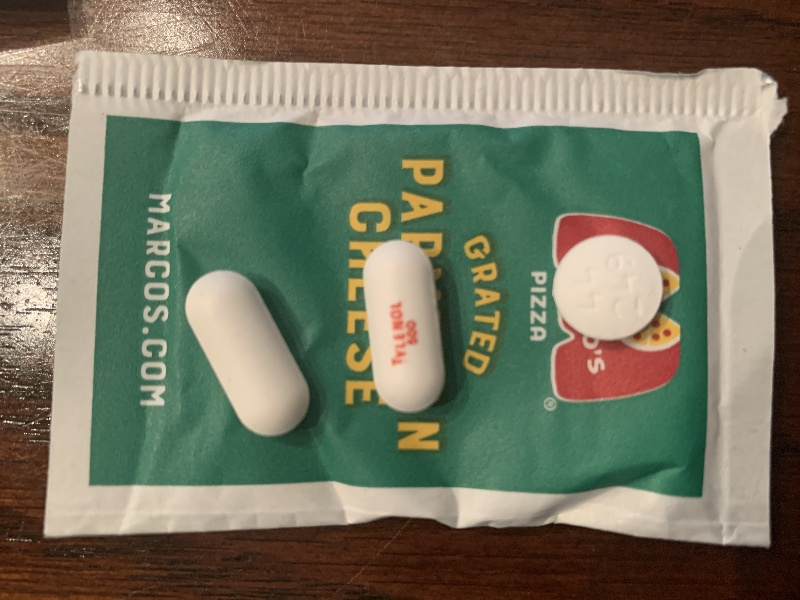Aspirin: (549, 233, 668, 342)
Tylenol: (181, 268, 317, 438), (361, 239, 449, 414)
